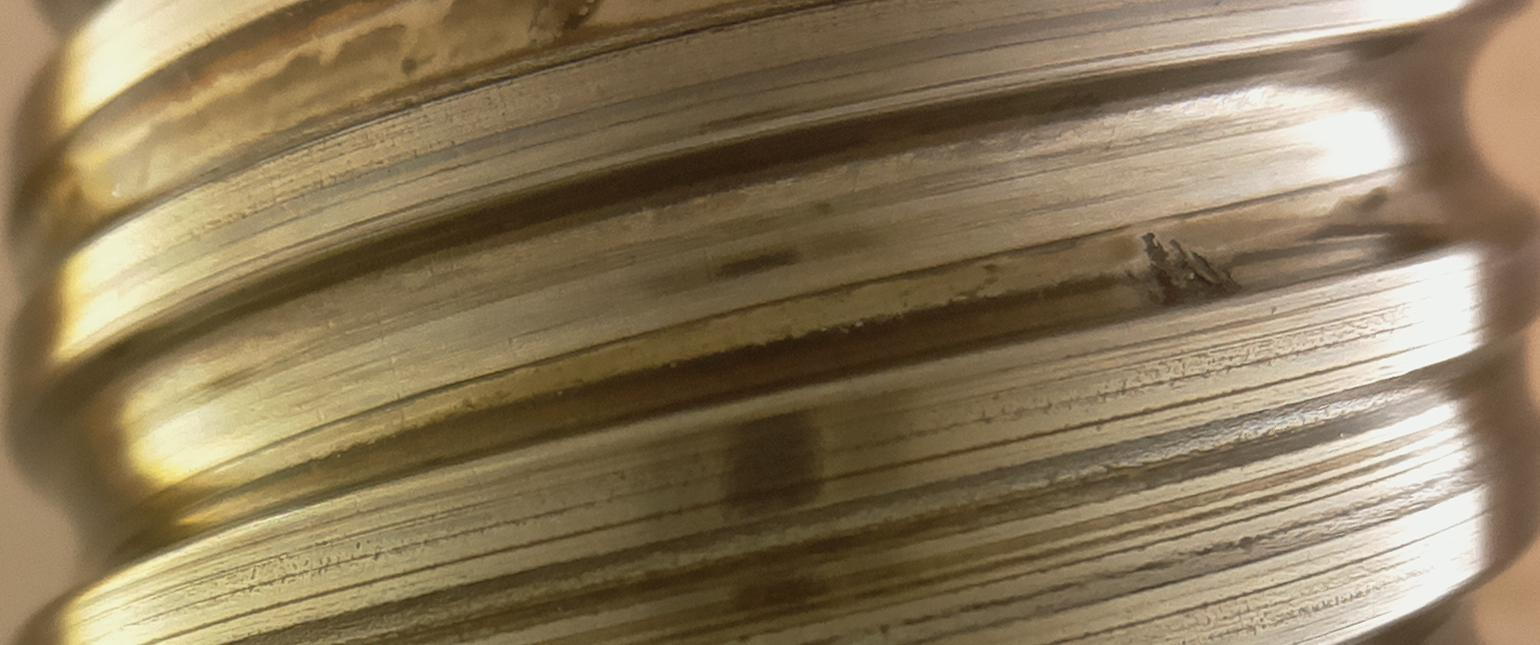pitting: (1127, 232, 1242, 310)
